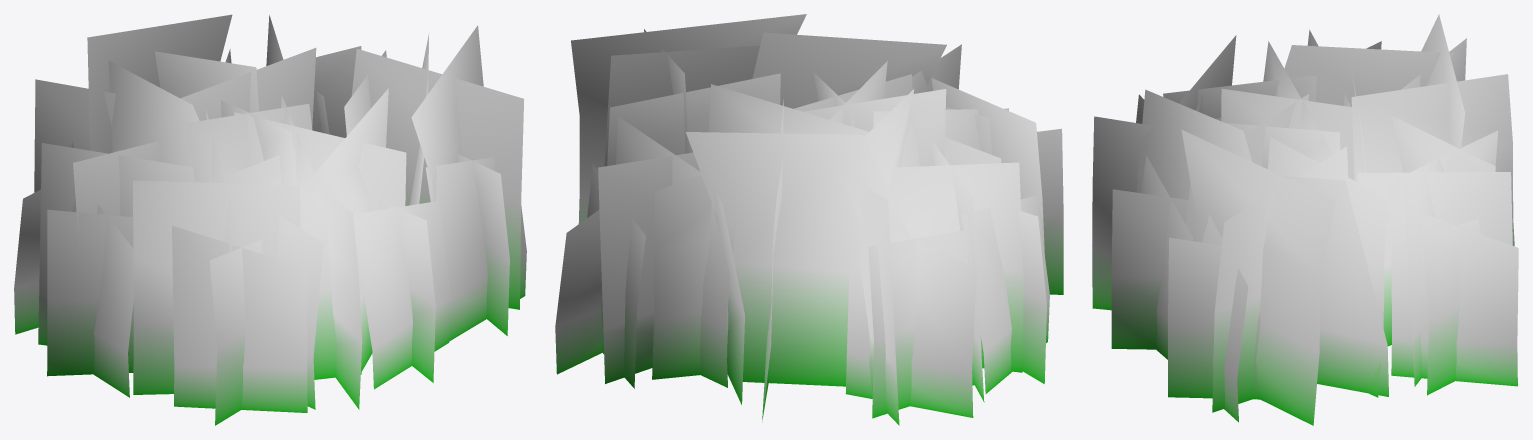
Rendered from S_Grass_02A.fbx.
3 renders of one model, left to right at view 1: azimuth 30°, elevation 25°; view 2: azimuth 150°, elevation 25°; view 3: azimuth 270°, elevation 25°, orthographic. The views are drawn at different scales.
Parts seen in each view (by area): view 1: S_Grass_02A; view 2: S_Grass_02A; view 3: S_Grass_02A.
Part boxes in pixels (x1,y1,x2,y2): S_Grass_02A: (14,14,526,425); S_Grass_02A: (555,14,1063,425); S_Grass_02A: (1092,14,1518,425).
Bounding box in the file's own units: 132 × 74.02 × 113.
